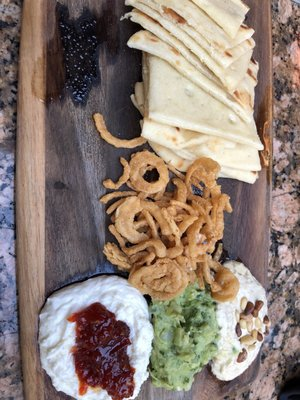curry: (148, 281, 221, 394)
